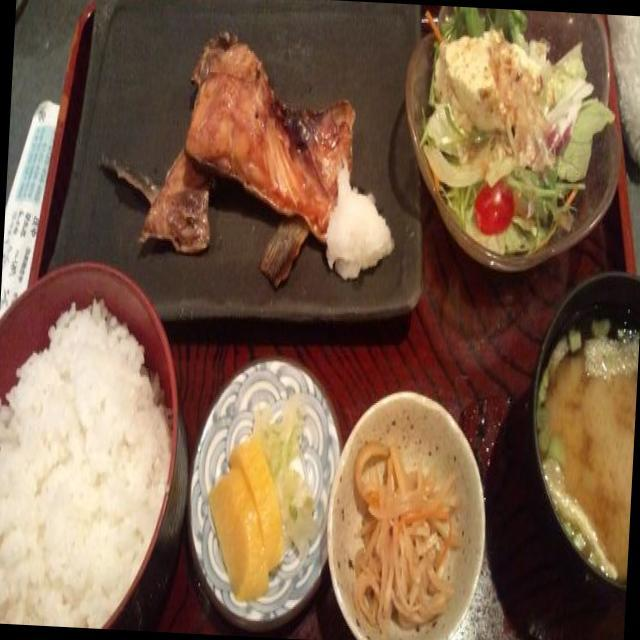Rice: (0, 295, 178, 632)
